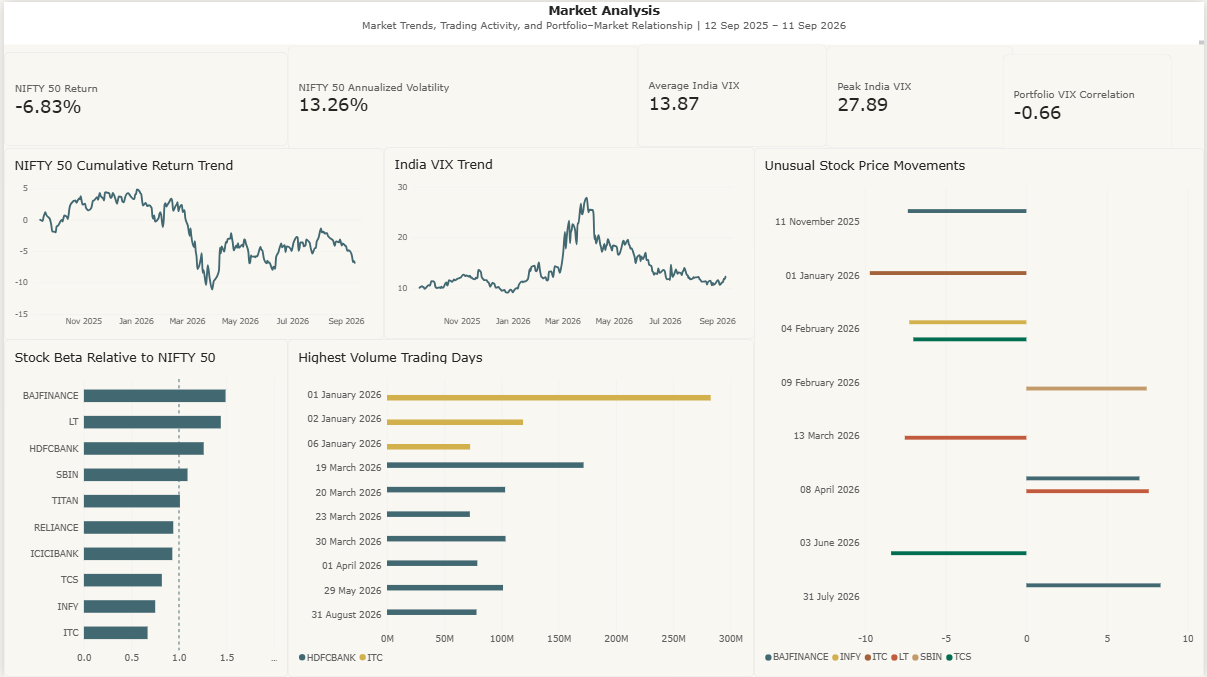

What the dashboard file says about the page in this screenshot:
{"tool":"powerbi","page":{"name":"Market Analysis ","canvas":[1920,1080],"ordinal":3},"visuals":[{"type":"textbox","title":"Market Analysis","box":[0,0,1920,68],"z":0},{"type":"cardVisual","fields":{"Data":["public vw_portfolio_daily.NIFTY 50 Return"]},"box":[0,80,454,150],"z":1000},{"type":"cardVisual","fields":{"Data":["public vw_portfolio_vs_nifty_daily.NIFTY 50 Annualized Volatility"]},"box":[454,70,560,166],"z":1001},{"type":"cardVisual","fields":{"Data":["public vw_market_volatility.Average India VIX"]},"box":[1014,68,302,164],"z":1002},{"type":"cardVisual","fields":{"Data":["public vw_market_volatility.Peak India VIX"]},"box":[1316,70,298,164],"z":1003},{"type":"cardVisual","fields":{"Data":["Sum(public vw_portfolio_vix.portfolio_vix_correlation)"]},"box":[1598,84,270,162],"z":1004},{"type":"lineChart","title":"NIFTY 50 Cumulative Return Trend","fields":{"Category":["public vw_portfolio_vs_nifty_daily.trade_date"],"Y":["Avg(public vw_portfolio_vs_nifty_daily.nifty_cumulative_return_pct)"]},"box":[0,233.7,607.4,306.3],"z":1005},{"type":"lineChart","title":"India VIX Trend","fields":{"Category":["public vw_market_volatility.trade_date"],"Y":["Sum(public vw_market_volatility.close_value)"]},"box":[607.4,232.6,592.6,307.4],"z":1006},{"type":"clusteredBarChart","title":"Stock Beta Relative to NIFTY 50","fields":{"Category":["public vw_stock_beta.symbol"],"Y":["Avg(public vw_stock_beta.beta)"]},"box":[0,540,454.3,540],"z":1007},{"type":"clusteredBarChart","title":"Highest Volume Trading Days","fields":{"Category":["public vw_highest_volume_days.trade_date"],"Series":["public vw_highest_volume_days.symbol"],"Y":["Sum(public vw_highest_volume_days.volume)"]},"box":[454.3,540,745.7,540],"z":1008},{"type":"clusteredBarChart","title":"Unusual Stock Price Movements","fields":{"Category":["public vw_unusual_price_movements.trade_date"],"Series":["public vw_unusual_price_movements.symbol"],"Y":["Sum(public vw_unusual_price_movements.daily_return_pct)"]},"box":[1200,234,720,846],"z":1009}]}

Visuals, with their boxes in screenshot pixels (x1, y1, x2, y2), scaled from the page's 1920x1080 canvas onto the 1207x677 screenshot:
"Market Analysis" textbox: Rect(0, 0, 1206, 43)
cardVisual - public vw_portfolio_daily.NIFTY 50 Return: Rect(0, 50, 285, 144)
cardVisual - public vw_portfolio_vs_nifty_daily.NIFTY 50 Annualized Volatility: Rect(285, 44, 637, 148)
cardVisual - public vw_market_volatility.Average India VIX: Rect(637, 43, 827, 145)
cardVisual - public vw_market_volatility.Peak India VIX: Rect(827, 44, 1015, 147)
cardVisual - Sum(public vw_portfolio_vix.portfolio_vix_correlation): Rect(1005, 53, 1174, 154)
"NIFTY 50 Cumulative Return Trend" lineChart: Rect(0, 146, 382, 338)
"India VIX Trend" lineChart: Rect(382, 146, 754, 338)
"Stock Beta Relative to NIFTY 50" clusteredBarChart: Rect(0, 338, 286, 676)
"Highest Volume Trading Days" clusteredBarChart: Rect(286, 338, 754, 676)
"Unusual Stock Price Movements" clusteredBarChart: Rect(754, 147, 1206, 676)
